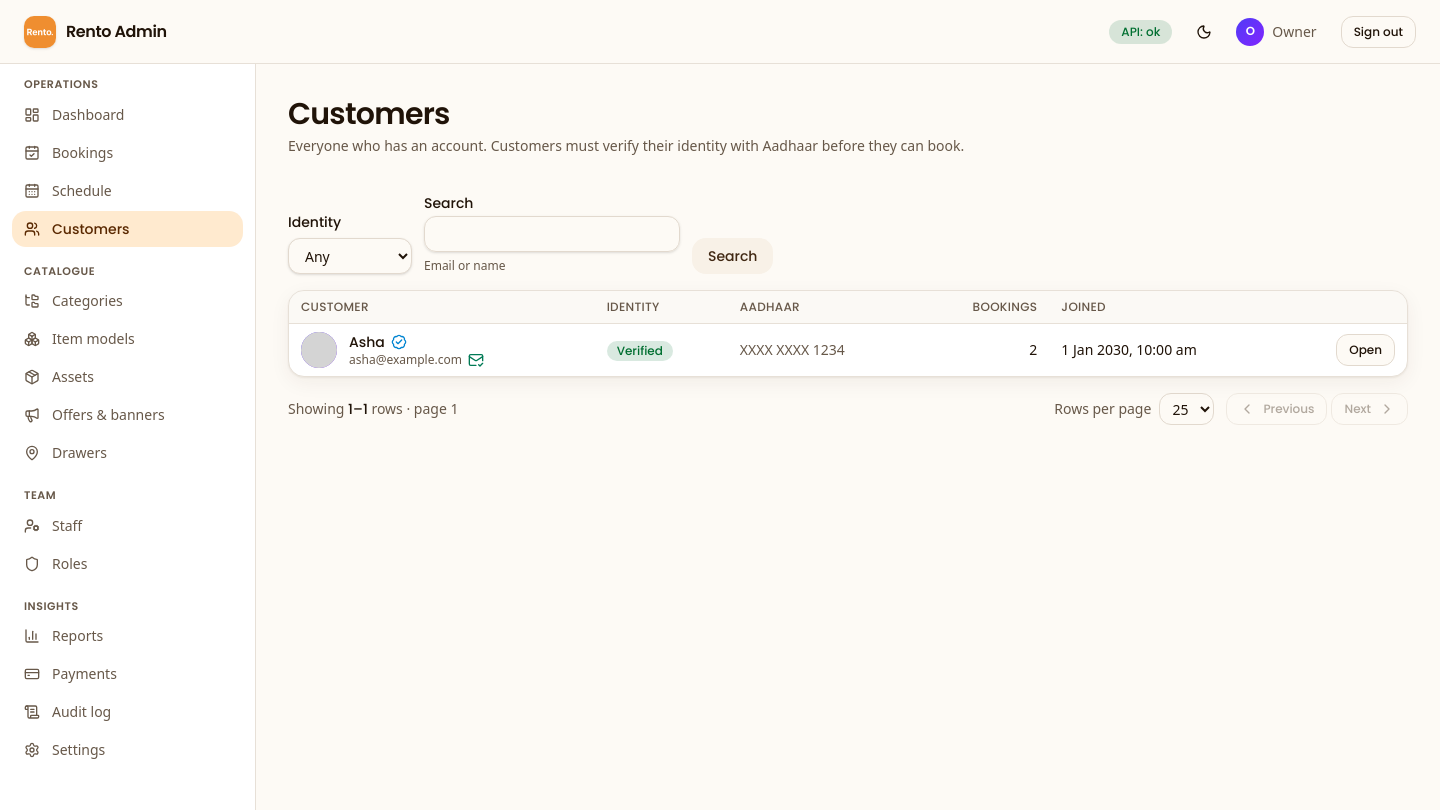
customers: photo and verification › T-04 the detail shows the same facts in words
The image size is (1440, 810).
Click the button with aria-label "Open asha@example.com" at (1366, 350), box [1336,334,1395,366]
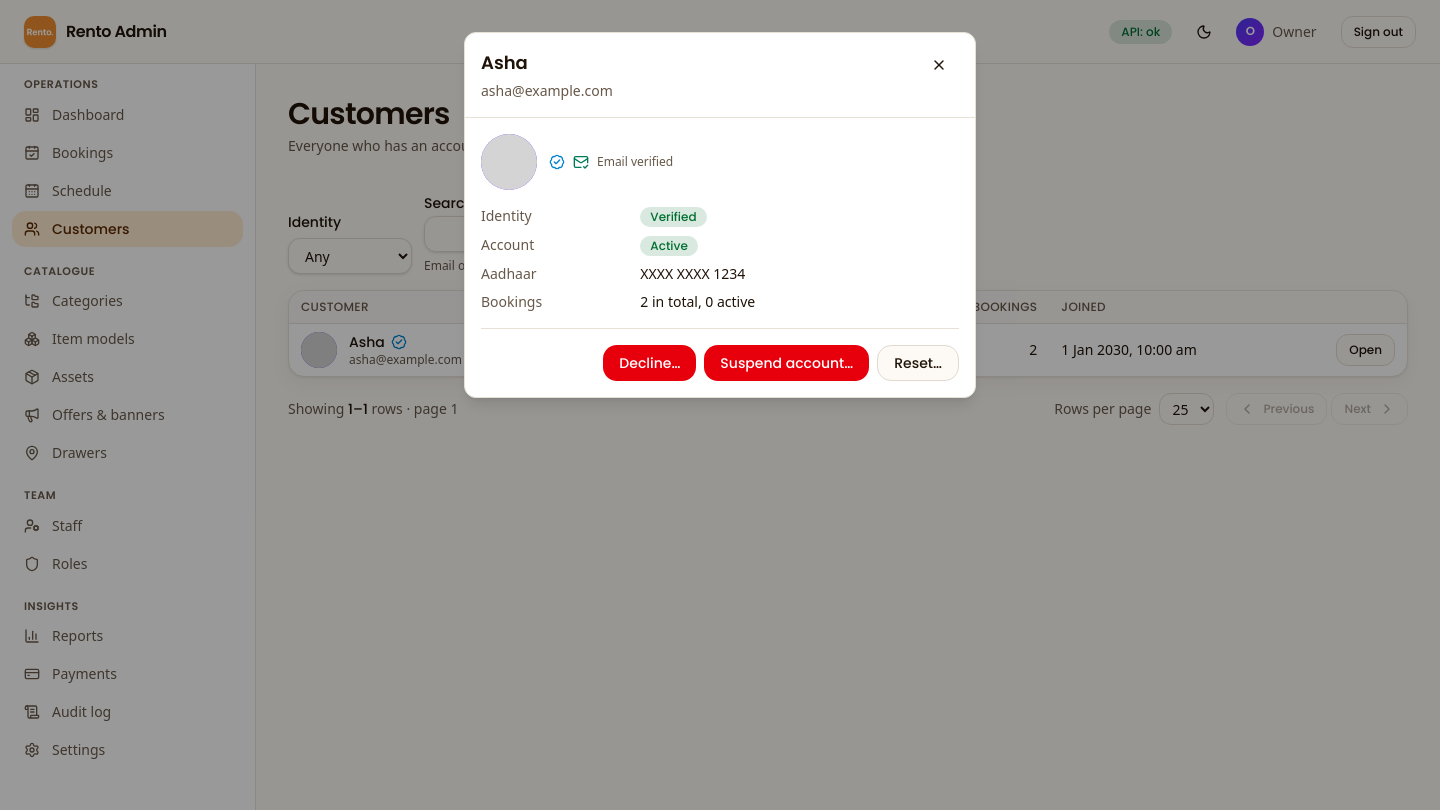
Check: the text "Email verified" is shown, box [597,154,673,170]
Check: the picture named "Identity verified" is shown, box [549,154,565,170]
